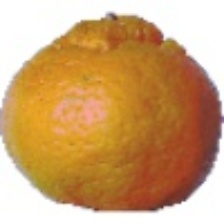tangerine: (18, 46, 200, 181)
